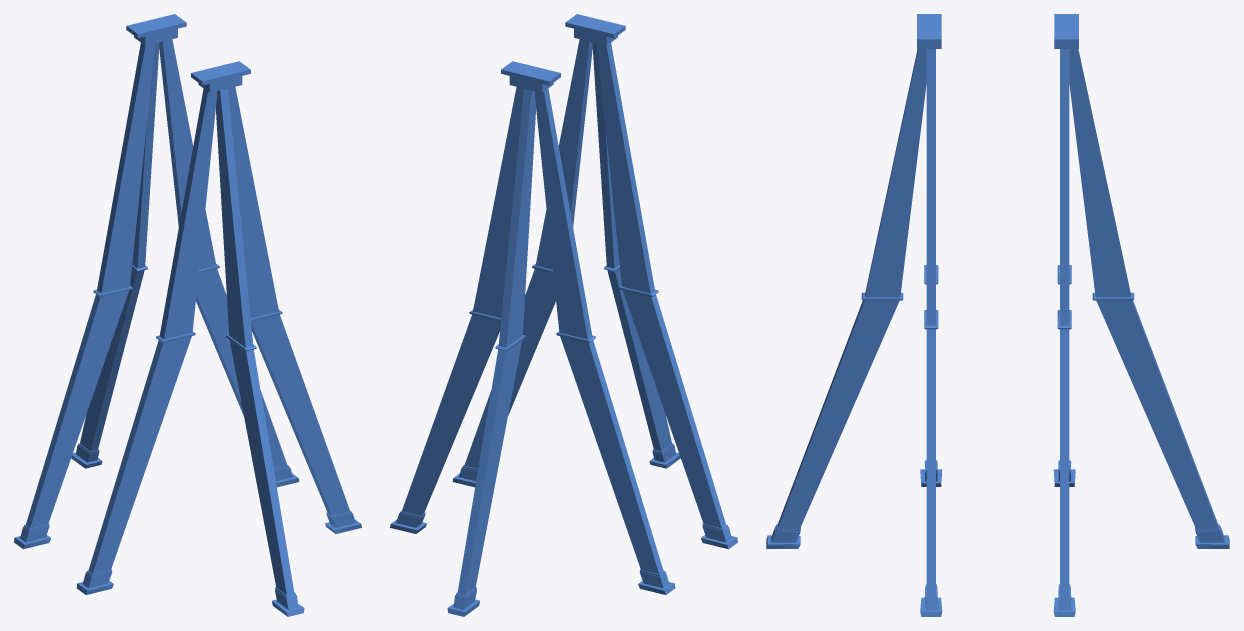
Rendered from soporte.obj.
3 views of the same model, side by side, from view 1: azimuth 30°, elevation 25°; view 2: azimuth 150°, elevation 25°; view 3: azimuth 270°, elevation 25° (orthographic). The views are drawn at different scales.
Parts seen in each view (by area): view 1: koleso; view 2: koleso; view 3: koleso.
Boxes of the visible parts, <box> form: koleso: <box>14,14,361,616</box>; koleso: <box>390,14,737,616</box>; koleso: <box>766,14,1229,616</box>.
Bounding box in the file's own units: 3675 × 6199 × 5019.
